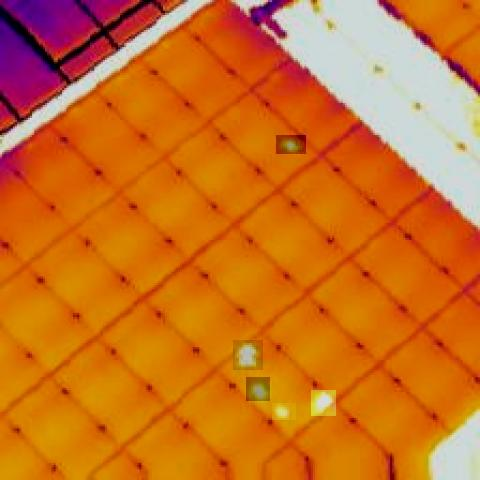fault: (234, 340, 264, 370), (311, 390, 336, 416), (246, 377, 270, 401), (276, 135, 306, 154), (272, 403, 296, 420)
